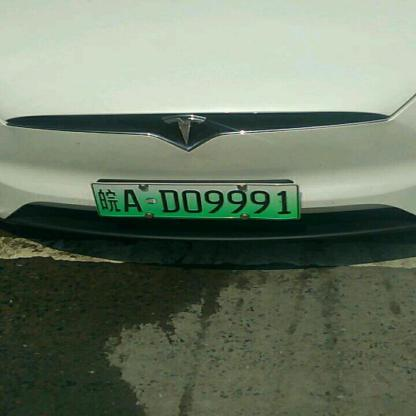lp: (91, 184, 298, 218)
